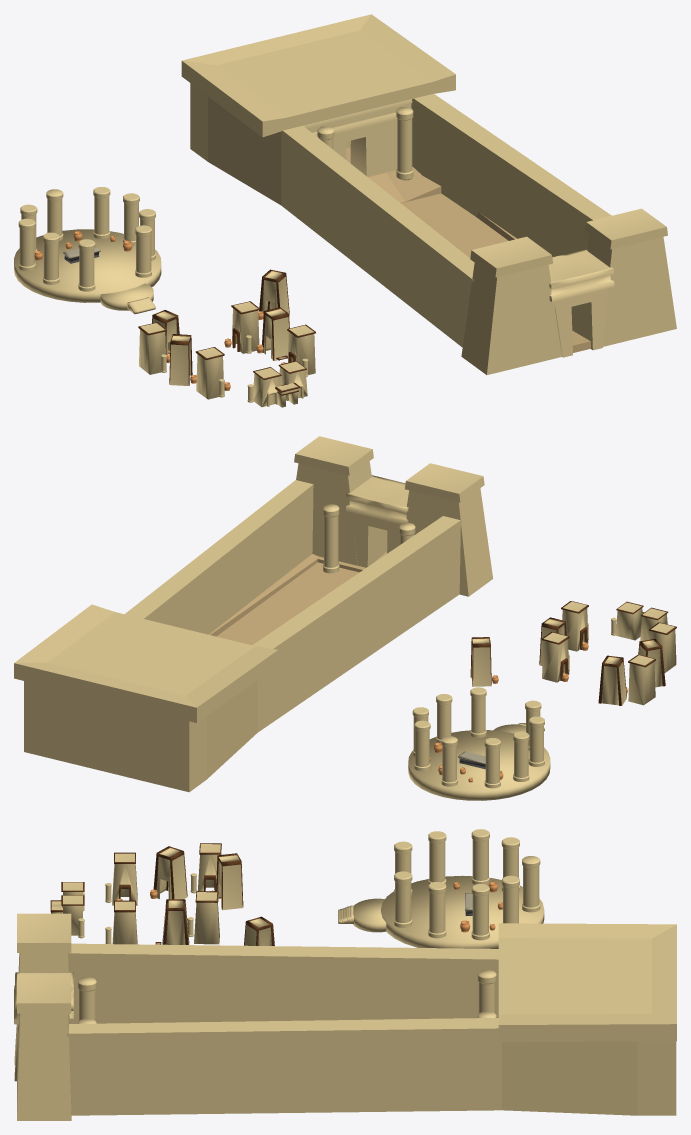
The model's file is VILAEGITO26.fbx.
3 views of the same model, one above another, from view 1: azimuth 30°, elevation 25°; view 2: azimuth 150°, elevation 25°; view 3: azimuth 270°, elevation 25° (orthographic). The views are drawn at different scales.
Visible parts, largest first — view 1: PAREDETEMPLO, Cube.011, ENTRADAFORA, Cylinder.030, ENTRADADENTRO, PATIOTEMPLO, ENTRADADENTROTEMPLO2, CASAVILA1.001, CASAVILA1, Cylinder.014, ENTRADAVILAFORA, Cylinder.005 (+9 smaller); view 2: PAREDETEMPLO, Cube.011, ENTRADAFORA, PATIOTEMPLO, Cylinder.030, ENTRADADENTRO, CASAVILA1.001, CASAVILA1, Cylinder.006, Cylinder.004, ENTRADAVILAFORA, PILASTRATEMPLO1.001 (+6 smaller); view 3: PAREDETEMPLO, Cube.011, ENTRADAFORA, Cylinder.030, CASAVILA1.001, CASAVILA1, Cylinder.005, Cylinder.004, Cube.005, Cylinder.014, Cylinder.006, Cube.007 (+8 smaller).
Part boxes in pixels (x1,y1,x2,y2): PAREDETEMPLO: (190,83,611,347); Cube.011: (181,14,455,137); ENTRADAFORA: (461,208,676,374); Cylinder.030: (14,229,161,302); ENTRADADENTRO: (548,249,614,357); PATIOTEMPLO: (346,147,590,352); ENTRADADENTROTEMPLO2: (303,99,412,176); CASAVILA1.001: (138,301,259,374); CASAVILA1: (195,324,315,399); Cylinder.014: (78,225,151,291); ENTRADAVILAFORA: (253,361,307,407); Cylinder.005: (18,193,139,270); PAREDETEMPLO: (24,480,461,792); Cube.011: (14,604,278,722); ENTRADAFORA: (294,436,493,596); PATIOTEMPLO: (209,551,386,645); Cylinder.030: (408,730,550,800); ENTRADADENTRO: (346,475,408,567); CASAVILA1.001: (541,632,655,705); CASAVILA1: (561,601,676,672); Cylinder.006: (414,720,500,788); Cylinder.004: (436,694,544,766); ENTRADAVILAFORA: (615,601,668,641); PILASTRATEMPLO1.001: (323,504,415,573); PAREDETEMPLO: (66,943,676,1115); Cube.011: (498,923,676,1042); ENTRADAFORA: (17,913,71,1120); Cylinder.030: (381,875,544,948); CASAVILA1.001: (194,843,221,944); CASAVILA1: (112,852,137,944); Cylinder.005: (471,829,489,940); Cylinder.004: (428,831,446,938); Cube.005: (153,846,187,899); Cylinder.014: (394,841,412,927); Cylinder.006: (501,837,519,923); Cube.007: (216,853,243,910).
Size of the model in its own units: 5555 by 1258 by 6599.
